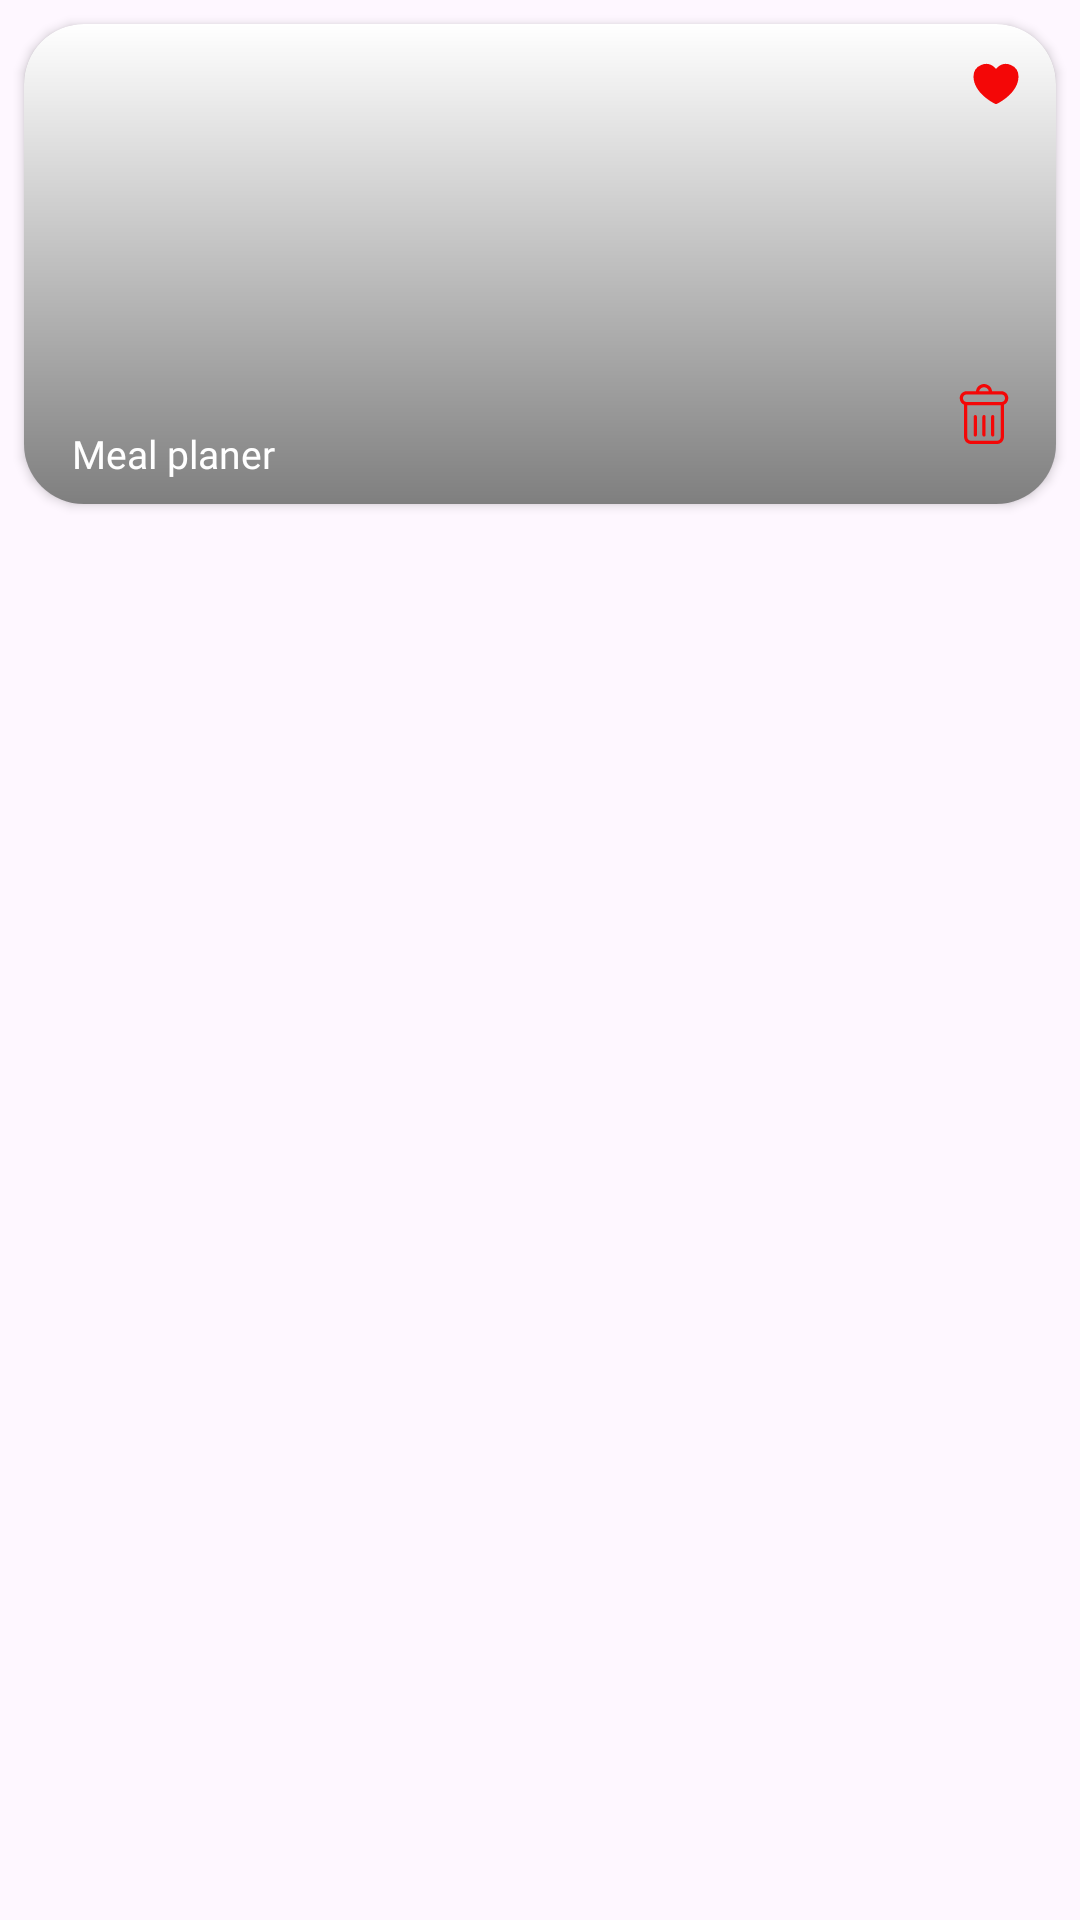

Icons on this 1080x1920 Android screen, each with its box as (left=x1, top=y1, right=x2, bottom=y2):
delete: (left=959, top=384, right=1009, bottom=444)
fav: (left=973, top=63, right=1019, bottom=104)
